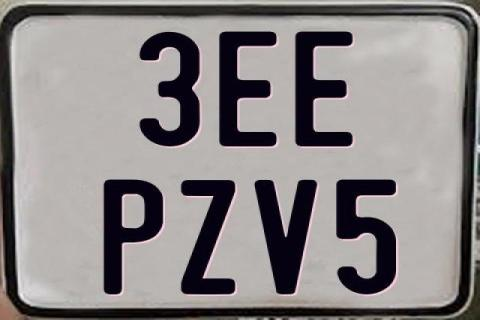0: (138, 29, 205, 149), (336, 177, 396, 297)
E: (217, 29, 279, 145), (292, 29, 351, 147)
P: (103, 178, 168, 296)
V: (253, 178, 318, 292)
Z: (180, 179, 239, 297)
